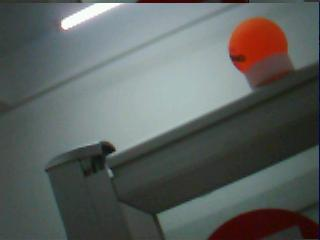oball: (229, 17, 287, 71)
